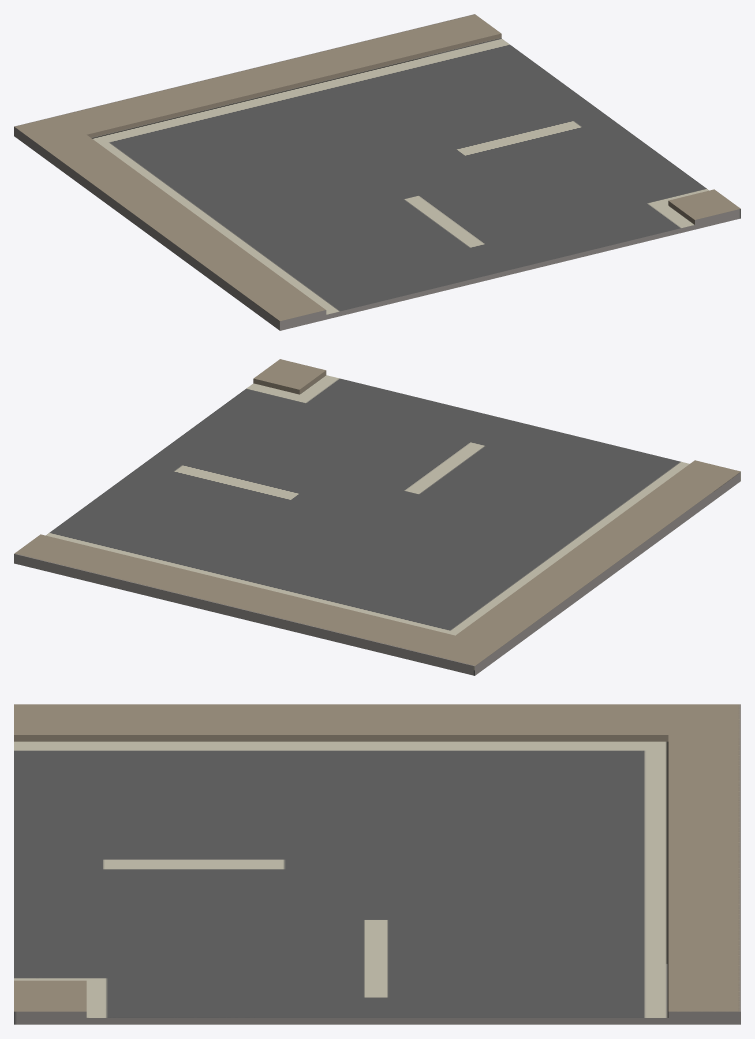
The model's file is road_corner_coloured.glb.
3 renders of one model, top to bottom at view 1: azimuth 30°, elevation 25°; view 2: azimuth 150°, elevation 25°; view 3: azimuth 270°, elevation 25°, orthographic. The views are drawn at different scales.
Visible parts, largest first — view 1: Cube; view 2: Cube; view 3: Cube.
Boxes of the visible parts, <box> form: Cube: <box>14,14,740,330</box>; Cube: <box>14,359,740,675</box>; Cube: <box>14,704,740,1024</box>.
Bounding box in the file's own units: 15 × 0.3 × 15.
Materials: 1 (1 with a texture image).
